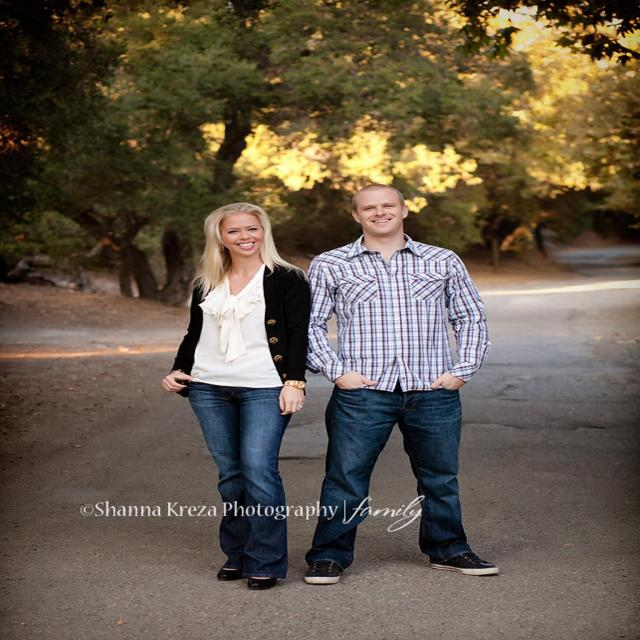nomask: (355, 188, 403, 235), (222, 215, 262, 258)
